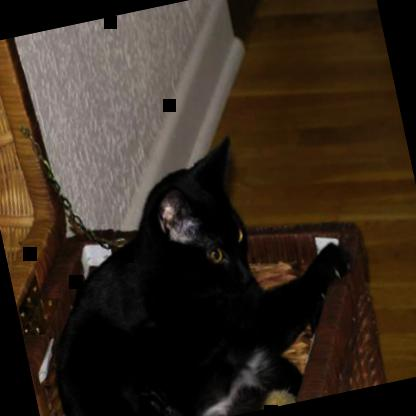cat: (12, 114, 379, 415)
